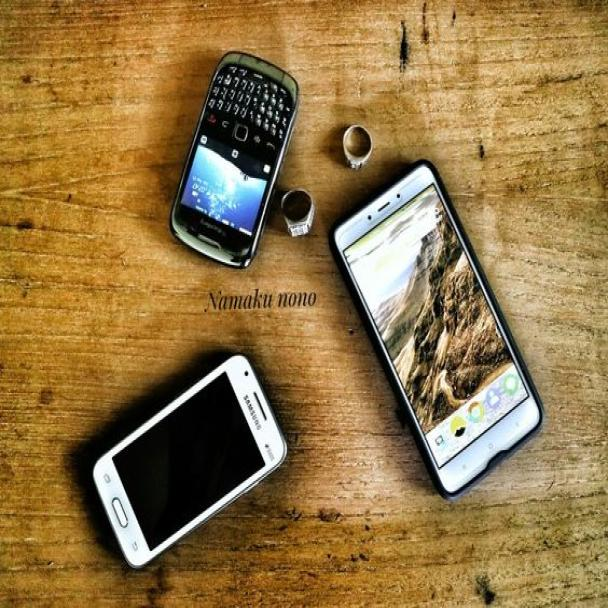Handphone: (327, 150, 555, 511), (87, 349, 292, 581), (164, 44, 303, 270)
